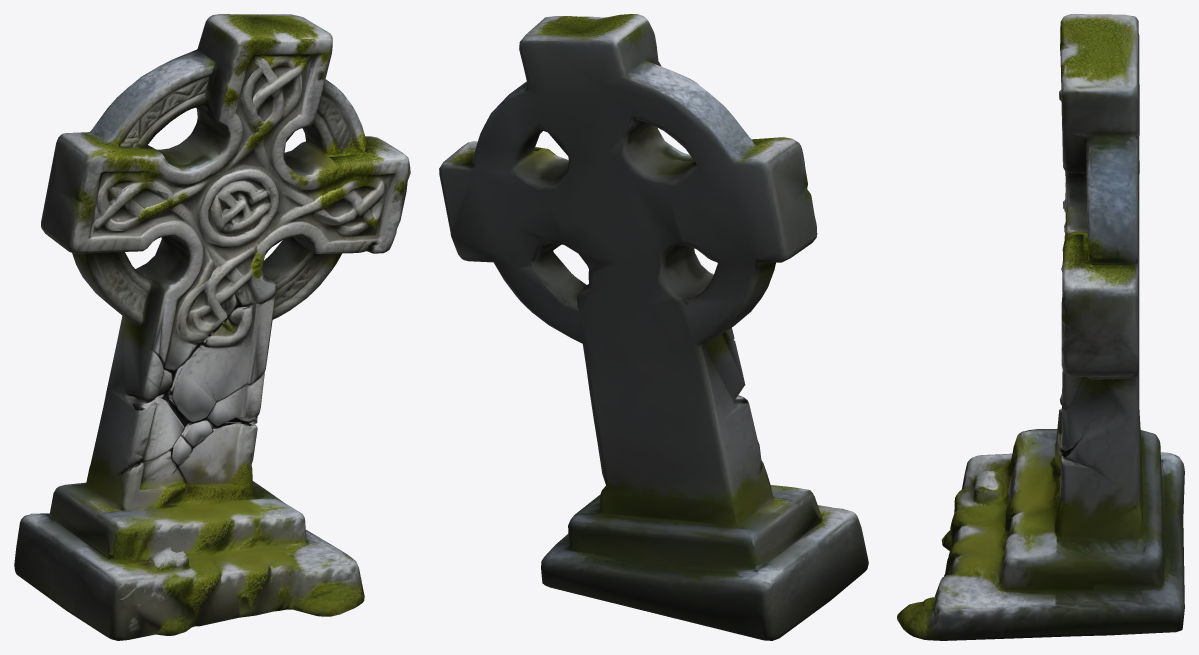
File: Stonecross1.opt.glb
3 renders of one model, left to right at view 1: azimuth 30°, elevation 25°; view 2: azimuth 150°, elevation 25°; view 3: azimuth 270°, elevation 25°, orthographic. The views are drawn at different scales.
Visible parts, largest first — view 1: node_0; view 2: node_0; view 3: node_0.
Part boxes in pixels (x1=…): node_0: x1=14, y1=14, x2=410, y2=640; node_0: x1=439, y1=14, x2=868, y2=640; node_0: x1=897, y1=14, x2=1184, y2=640.
Size of the model in its own units: 0.6477 by 0.9384 by 0.4125.
Materials: 1 (1 with a texture image).
